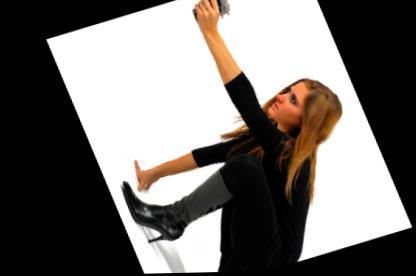pistol: (184, 0, 244, 28)
